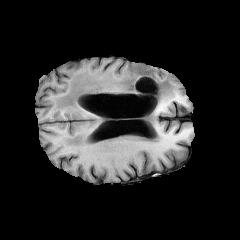glioma: (51, 67, 175, 147)
